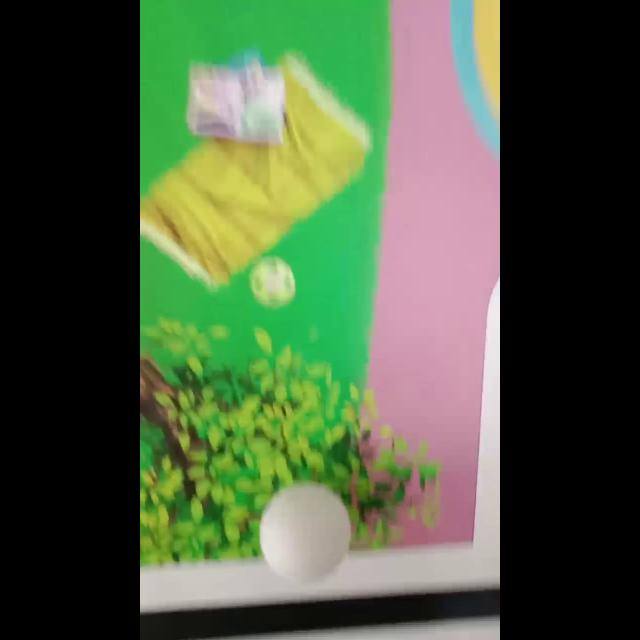white ball: (258, 482, 352, 582)
